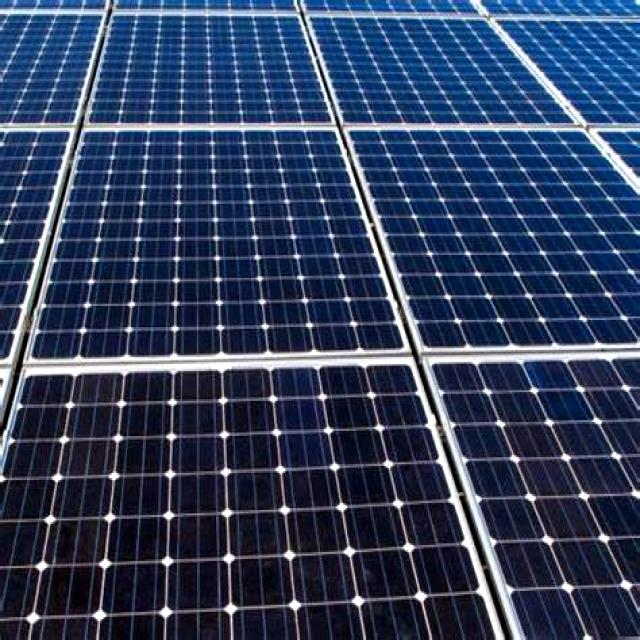crack: (0, 358, 585, 640), (32, 102, 409, 380), (395, 329, 640, 640), (336, 127, 640, 361), (304, 2, 582, 172), (94, 7, 348, 155)
